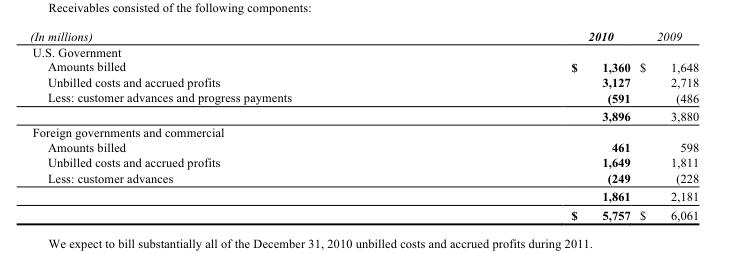table: (29, 28, 702, 221)
table column: (29, 28, 430, 221), (430, 28, 636, 221), (636, 28, 702, 221)
table column header: (29, 28, 702, 43)
table projected row header: (29, 123, 702, 139), (29, 43, 702, 58)
table row: (29, 186, 702, 205), (29, 89, 702, 106), (29, 106, 702, 123), (29, 169, 702, 186), (29, 58, 702, 74), (29, 123, 702, 139), (29, 205, 702, 221), (29, 28, 702, 43), (29, 43, 702, 58), (29, 74, 702, 89), (29, 139, 702, 154), (29, 154, 702, 169)
